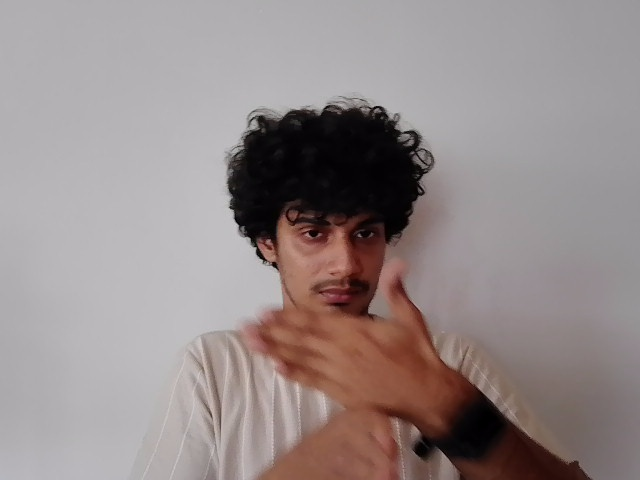busy: (238, 258, 435, 480)
